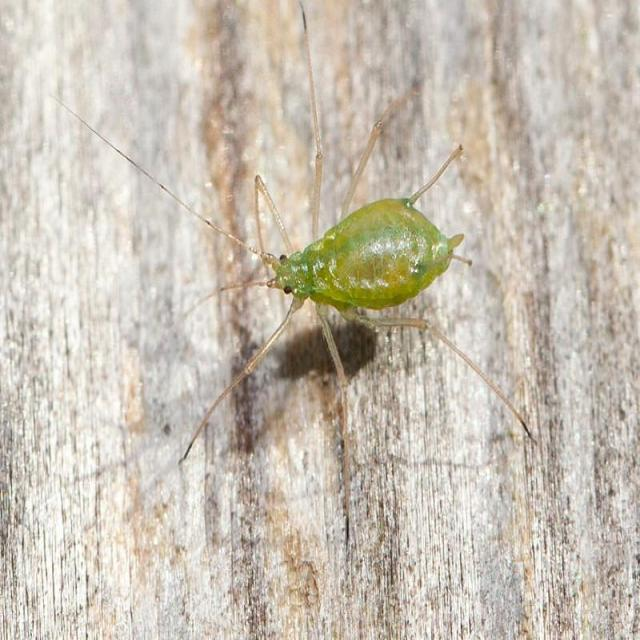aphid: (169, 92, 505, 490)
